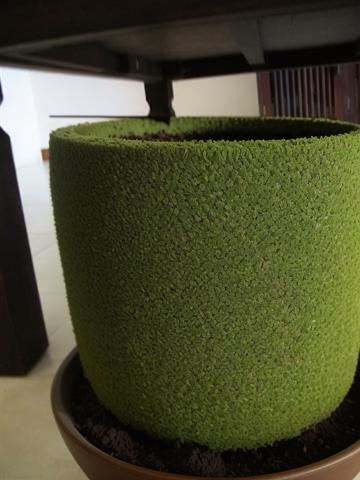pottedplant: (49, 115, 360, 480)
